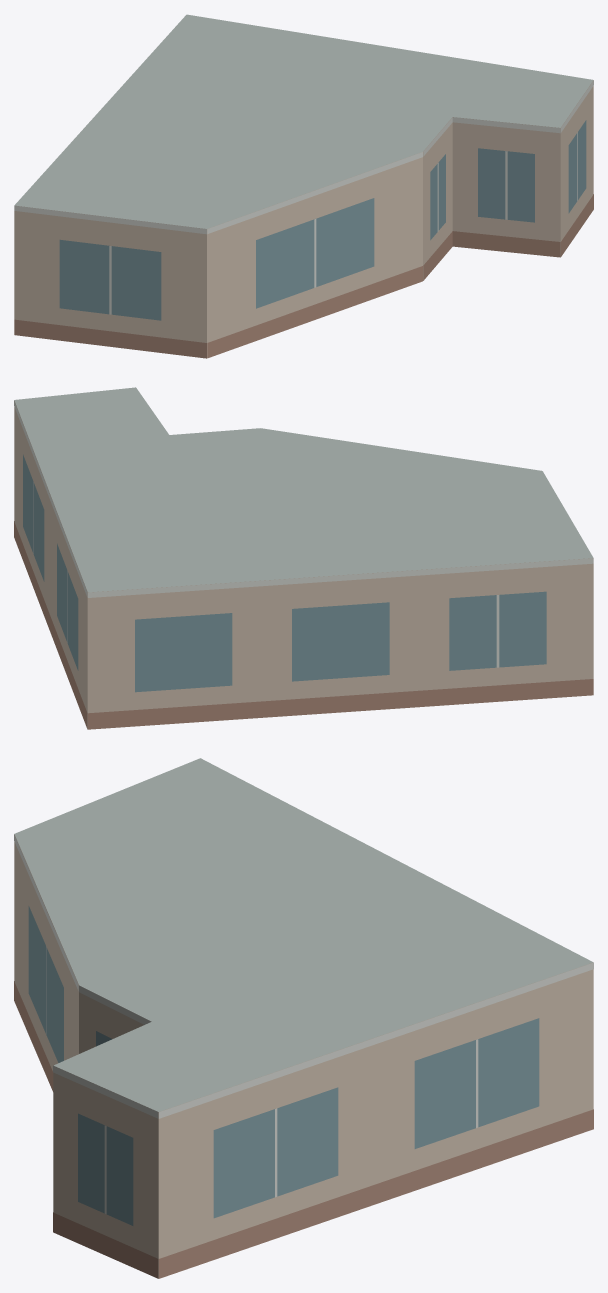
The model's file is survey-upis-32726322.glb.
3 views of the same model, one above another, from view 1: azimuth 30°, elevation 25°; view 2: azimuth 150°, elevation 25°; view 3: azimuth 270°, elevation 25° (orthographic). The views are drawn at different scales.
Visible parts, largest first — view 1: survey-upis-32726322.tmp; view 2: survey-upis-32726322.tmp; view 3: survey-upis-32726322.tmp.
Boxes of the visible parts, x1,y1,x2,y2 form: survey-upis-32726322.tmp: (14,14,593,358); survey-upis-32726322.tmp: (14,387,593,729); survey-upis-32726322.tmp: (14,758,593,1278).
Bounding box in the file's own units: 13.9 × 3.05 × 9.62.
